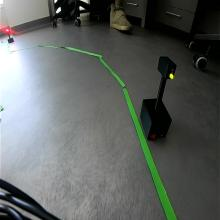green: (158, 56, 178, 80)
